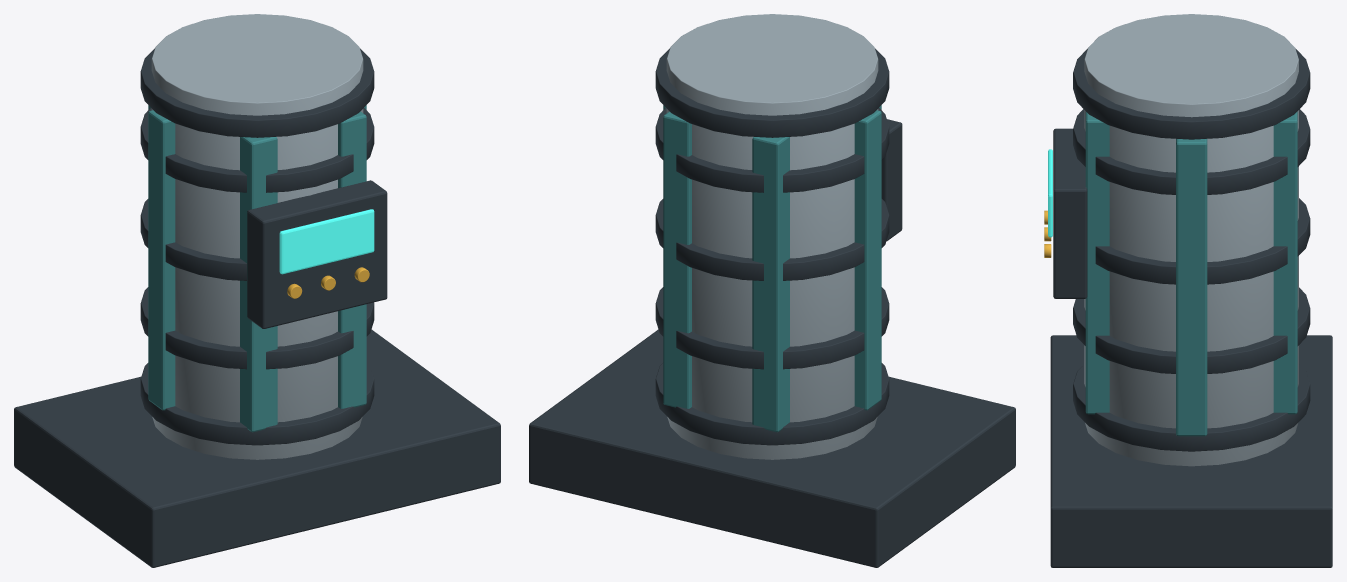
The model's file is reactor.glb.
The picture shows the model from 3 angles, left to right: view 1: azimuth 30°, elevation 25°; view 2: azimuth 150°, elevation 25°; view 3: azimuth 270°, elevation 25°; orthographic projection.
Parts seen in each view (by area): view 1: Reactor foundation, Core housing, Diagnostic panel, Cooling fin.003, Cooling fin.004, Reinforced ring.004, Reinforced ring, Reinforced ring.003, Reinforced ring.001, Cooling fin.005, Display, Reinforced ring.002; view 2: Reactor foundation, Core housing, Cooling fin.002, Cooling fin.001, Cooling fin.003, Reinforced ring.004, Reinforced ring, Reinforced ring.003, Reinforced ring.001, Reinforced ring.002, Diagnostic panel; view 3: Core housing, Reactor foundation, Cooling fin, Cooling fin.001, Reinforced ring.004, Cooling fin.005, Reinforced ring, Diagnostic panel, Reinforced ring.003, Reinforced ring.001, Reinforced ring.002, Display.
Part boxes in pixels (x1,y1,x2,y2): Reactor foundation: [14, 329, 500, 567]; Core housing: [151, 14, 363, 459]; Diagnostic panel: [247, 180, 387, 328]; Cooling fin.003: [148, 110, 175, 410]; Cooling fin.004: [240, 137, 277, 432]; Reinforced ring.004: [140, 48, 374, 137]; Reinforced ring: [140, 363, 374, 445]; Reinforced ring.003: [140, 108, 374, 192]; Reinforced ring.001: [140, 287, 374, 369]; Cooling fin.005: [338, 111, 366, 408]; Display: [279, 209, 374, 274]; Reinforced ring.002: [140, 199, 246, 280]; Reactor foundation: [529, 329, 1015, 567]; Core housing: [666, 14, 878, 459]; Cooling fin.002: [752, 137, 789, 432]; Cooling fin.001: [663, 111, 691, 408]; Cooling fin.003: [854, 110, 881, 410]; Reinforced ring.004: [655, 48, 889, 137]; Reinforced ring: [655, 363, 889, 445]; Reinforced ring.003: [655, 108, 889, 192]; Reinforced ring.001: [655, 287, 889, 369]; Reinforced ring.002: [655, 199, 889, 280]; Diagnostic panel: [881, 119, 902, 241]; Core housing: [1084, 14, 1298, 466]; Reactor foundation: [1050, 335, 1332, 567]; Cooling fin: [1176, 138, 1207, 436]; Cooling fin.001: [1273, 111, 1297, 414]; Reinforced ring.004: [1073, 48, 1310, 139]; Cooling fin.005: [1085, 111, 1109, 414]; Reinforced ring: [1073, 364, 1310, 451]; Diagnostic panel: [1053, 128, 1087, 298]; Reinforced ring.003: [1073, 109, 1310, 194]; Reinforced ring.001: [1073, 287, 1310, 373]; Reinforced ring.002: [1095, 198, 1310, 284]; Display: [1048, 149, 1052, 237].
Bounding box in the file's own units: 1.45 × 1.66 × 1.02.
